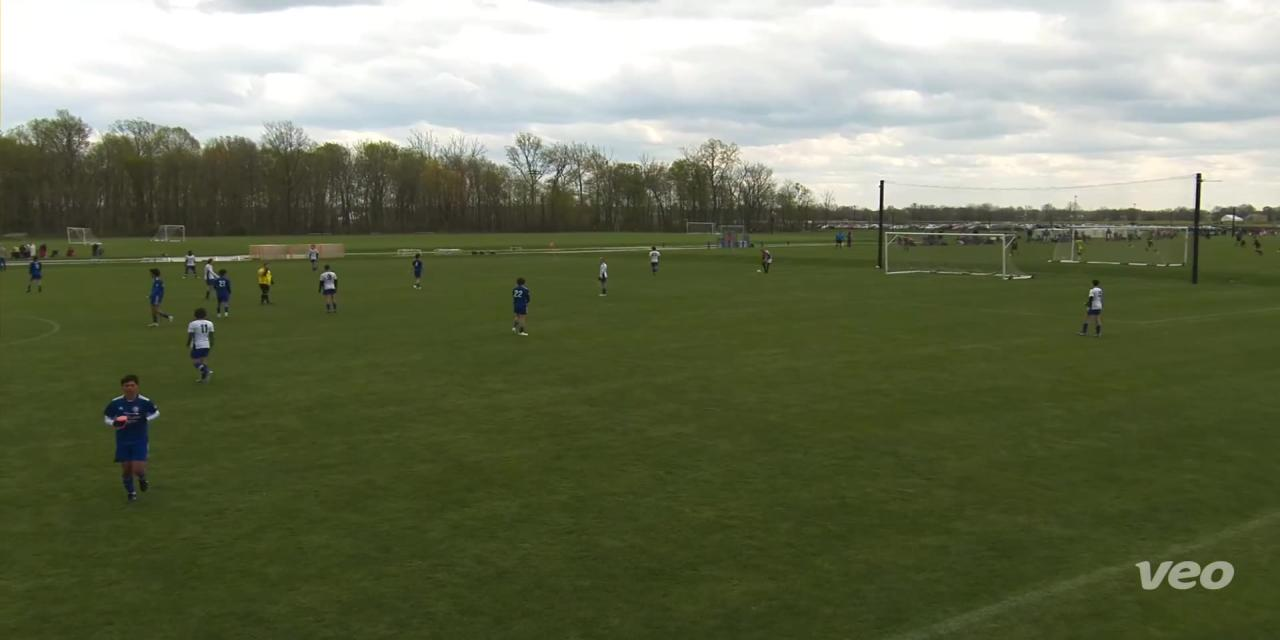goal: (876, 226, 1045, 288)
sports ball: (756, 263, 764, 277)
